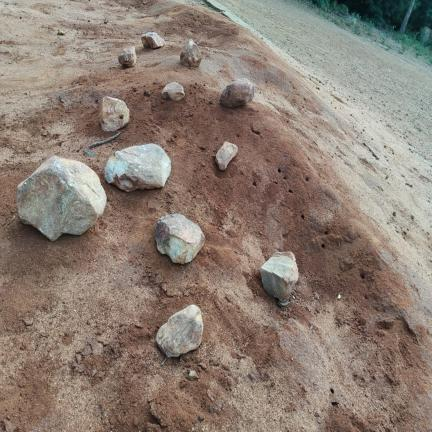Rocks: (18, 157, 106, 240), (105, 144, 171, 191), (155, 214, 204, 263), (157, 305, 203, 357), (261, 252, 298, 305), (101, 97, 129, 131), (221, 79, 254, 107), (216, 142, 237, 170), (181, 39, 202, 66), (118, 46, 137, 67), (162, 83, 184, 100), (141, 33, 164, 48), (0, 419, 16, 431), (23, 316, 34, 326), (187, 371, 198, 380), (58, 30, 65, 35), (315, 292, 319, 299)
